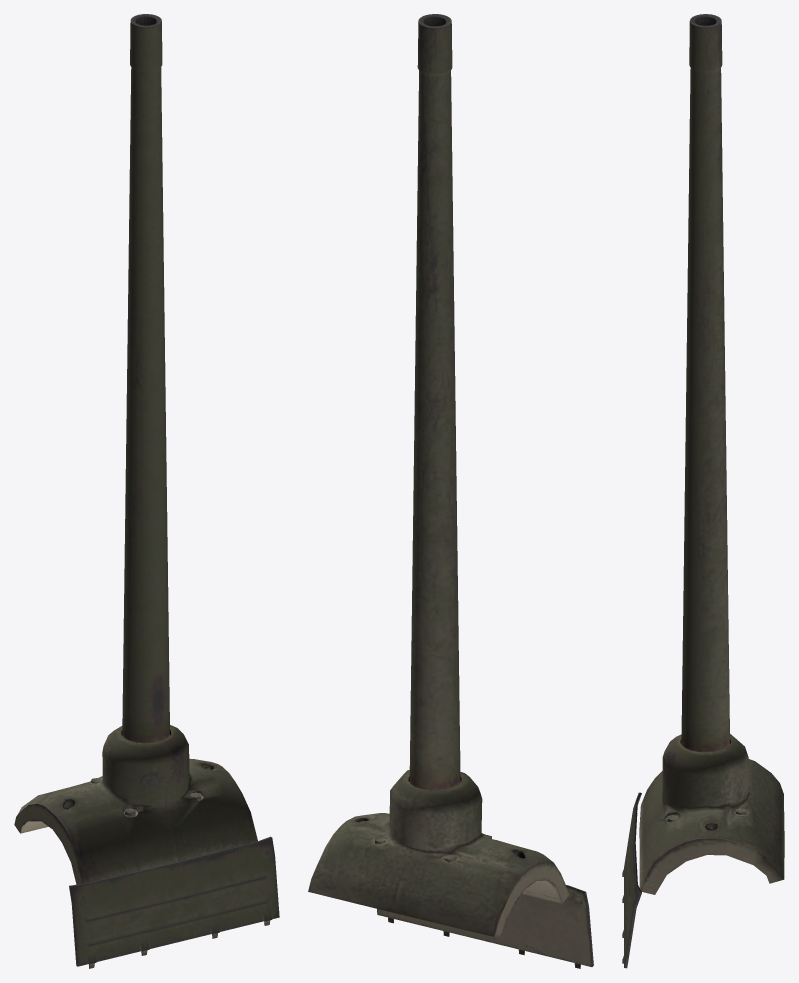
Rendered from Gun_01.glb.
3 renders of one model, left to right at view 1: azimuth 30°, elevation 25°; view 2: azimuth 150°, elevation 25°; view 3: azimuth 270°, elevation 25°, orthographic. The views are drawn at different scales.
Visible parts, largest first — view 1: set_0_group_0; view 2: set_0_group_0; view 3: set_0_group_0.
Boxes of the visible parts, bbox=[...] form: set_0_group_0: bbox=[14, 14, 279, 968]; set_0_group_0: bbox=[308, 14, 593, 968]; set_0_group_0: bbox=[622, 14, 784, 968].
Size of the model in its own units: 0.9131 by 3.87 by 0.6284.
1 material, 1 textured.
